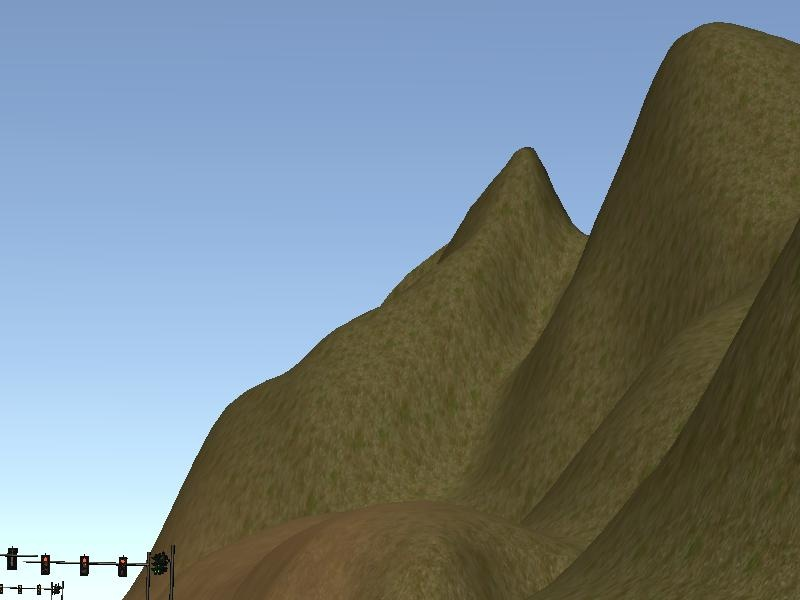traffic_light_red: (31, 554, 145, 578)
